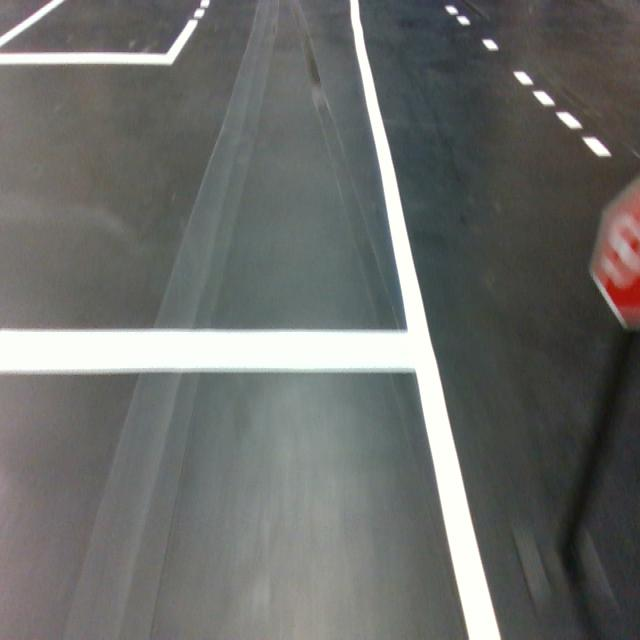stop-sign: (588, 174, 640, 333)
